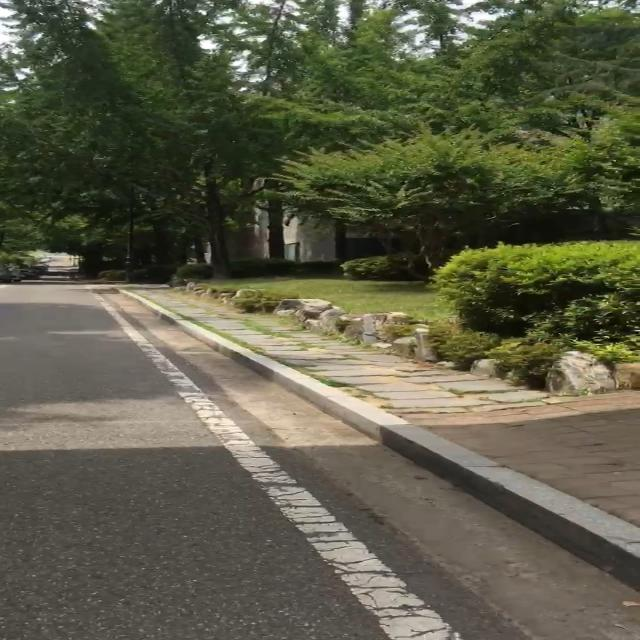road: (0, 284, 640, 640)
sidewalk: (116, 285, 640, 559)
